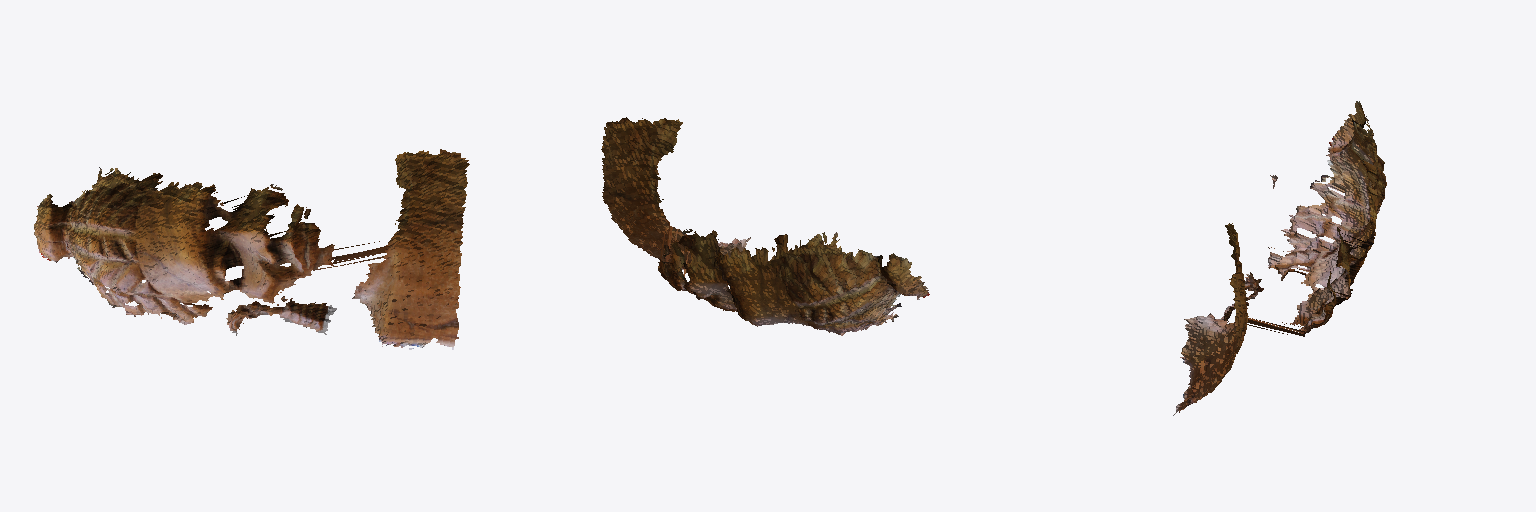
3 renders of one model, left to right at view 1: azimuth 30°, elevation 25°; view 2: azimuth 150°, elevation 25°; view 3: azimuth 270°, elevation 25°, orthographic.
Bounding box in the file's own units: 292 × 133 × 143.
Materials: 1 (1 with a texture image).